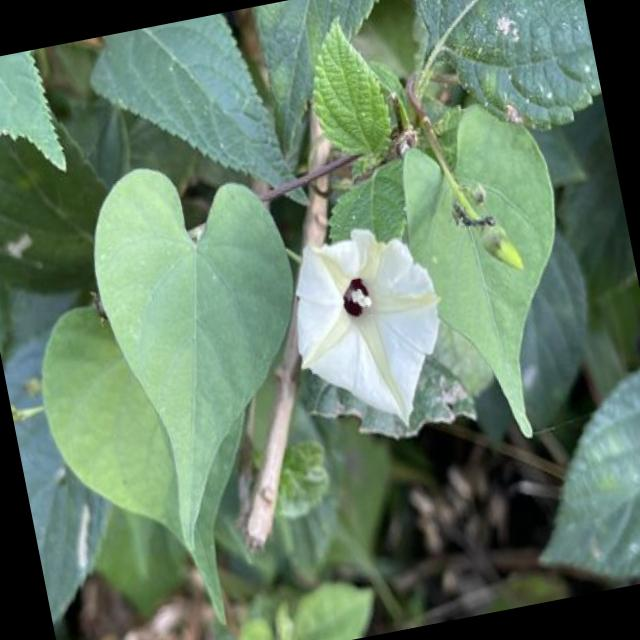ipomoea: (274, 212, 467, 448)
